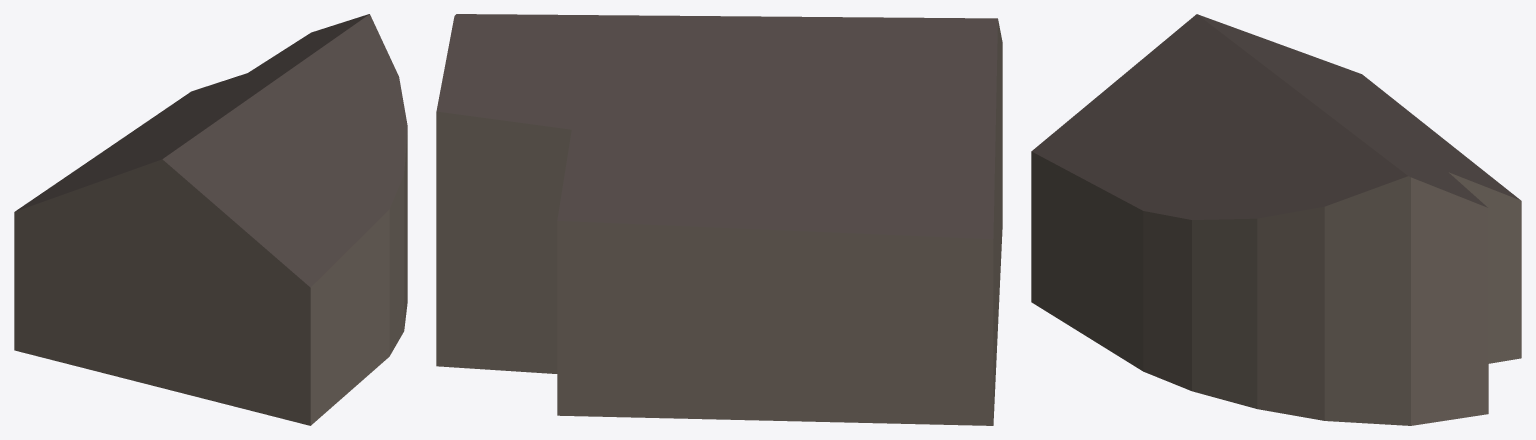
The picture shows the model from 3 angles, left to right: view 1: azimuth 30°, elevation 25°; view 2: azimuth 150°, elevation 25°; view 3: azimuth 270°, elevation 25°; orthographic projection. The views are drawn at different scales.
Parts seen in each view (by area): view 1: HP-w369317444; view 2: HP-w369317444; view 3: HP-w369317444.
Part boxes in pixels (x1,y1,x2,y2): HP-w369317444: (14, 14, 407, 425); HP-w369317444: (436, 14, 1002, 425); HP-w369317444: (1031, 14, 1521, 425).
Bounding box in the file's own units: 25.68 × 14.89 × 26.49.
